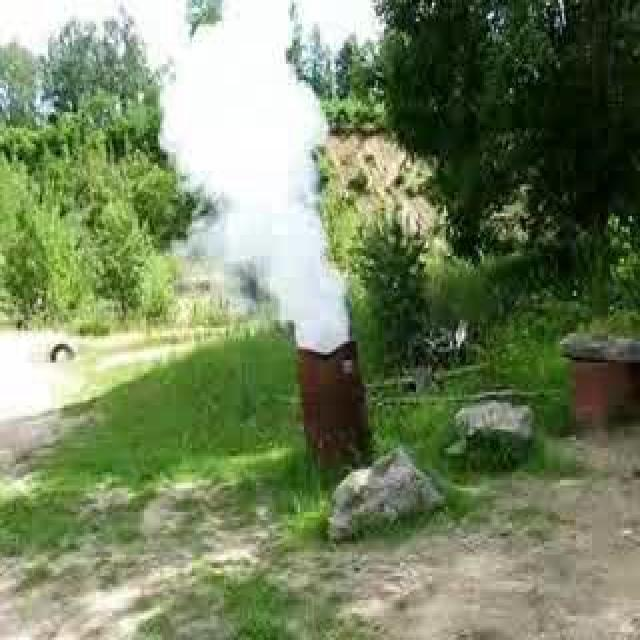Smoke: (144, 0, 352, 352)
